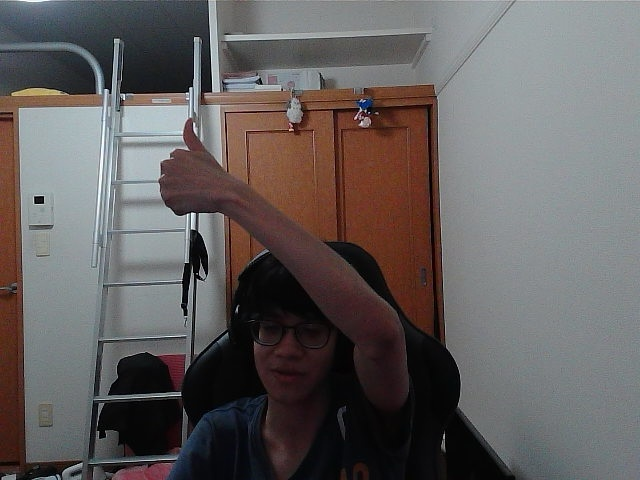thumb_up: (163, 122, 218, 206)
